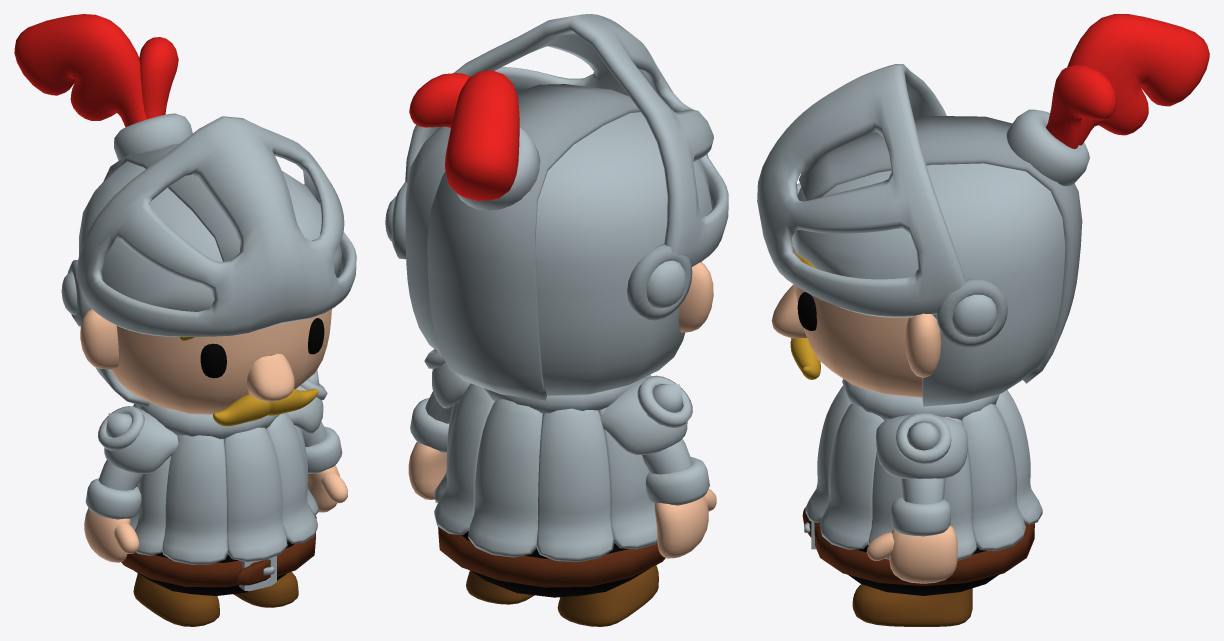
The model's file is Knight2final.glb.
The picture shows the model from 3 angles, left to right: view 1: azimuth 30°, elevation 25°; view 2: azimuth 150°, elevation 25°; view 3: azimuth 270°, elevation 25°; orthographic projection. The views are drawn at different scales.
Visible parts, largest first — view 1: Knight2_Head, Knight2_Body, Knight2_Right_Arm, Knight2_Left_Arm, Knight2_Right_Foot, Knight2_Left_Foot; view 2: Knight2_Head, Knight2_Body, Knight2_Right_Arm, Knight2_Left_Arm, Knight2_Right_Foot, Knight2_Left_Foot; view 3: Knight2_Head, Knight2_Body, Knight2_Left_Arm, Knight2_Left_Foot.
Boxes of the visible parts, x1,y1,x2,y2 form: Knight2_Head: [14, 14, 356, 426]; Knight2_Body: [121, 402, 318, 595]; Knight2_Right_Arm: [84, 406, 178, 562]; Knight2_Left_Arm: [287, 369, 347, 512]; Knight2_Right_Foot: [133, 573, 219, 626]; Knight2_Left_Foot: [233, 572, 298, 607]; Knight2_Head: [385, 14, 728, 400]; Knight2_Body: [434, 374, 665, 597]; Knight2_Right_Arm: [600, 375, 716, 558]; Knight2_Left_Arm: [408, 349, 470, 499]; Knight2_Right_Foot: [557, 565, 658, 626]; Knight2_Left_Foot: [466, 570, 534, 604]; Knight2_Head: [757, 14, 1209, 407]; Knight2_Body: [802, 379, 1042, 595]; Knight2_Left_Arm: [866, 412, 967, 583]; Knight2_Left_Foot: [852, 584, 972, 626].
Size of the model in its own units: 1.79 by 3.45 by 2.51.
